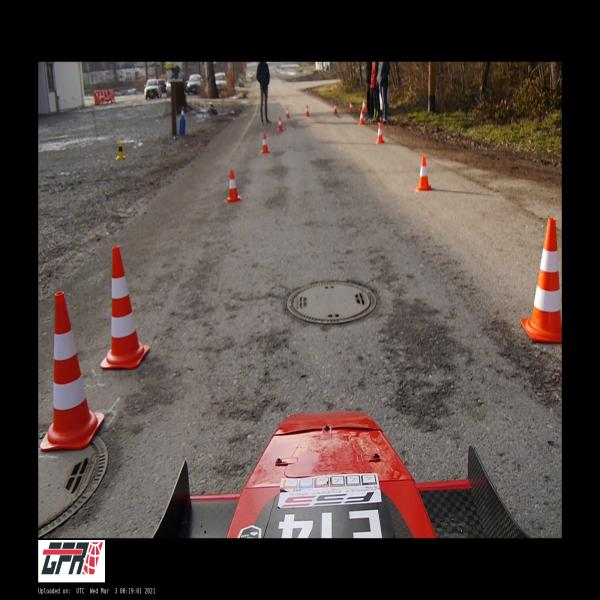blue_cone: (180, 106, 185, 120)
large_orange_cone: (40, 292, 105, 451), (100, 246, 150, 369), (521, 218, 561, 344)
orange_cone: (416, 156, 432, 191), (226, 170, 242, 202), (261, 133, 270, 153), (376, 123, 385, 143), (359, 110, 365, 125), (278, 117, 284, 131), (361, 100, 367, 111), (333, 102, 338, 115), (286, 107, 290, 119), (349, 102, 353, 112), (306, 105, 309, 116)
yellow_cone: (116, 142, 125, 160)
